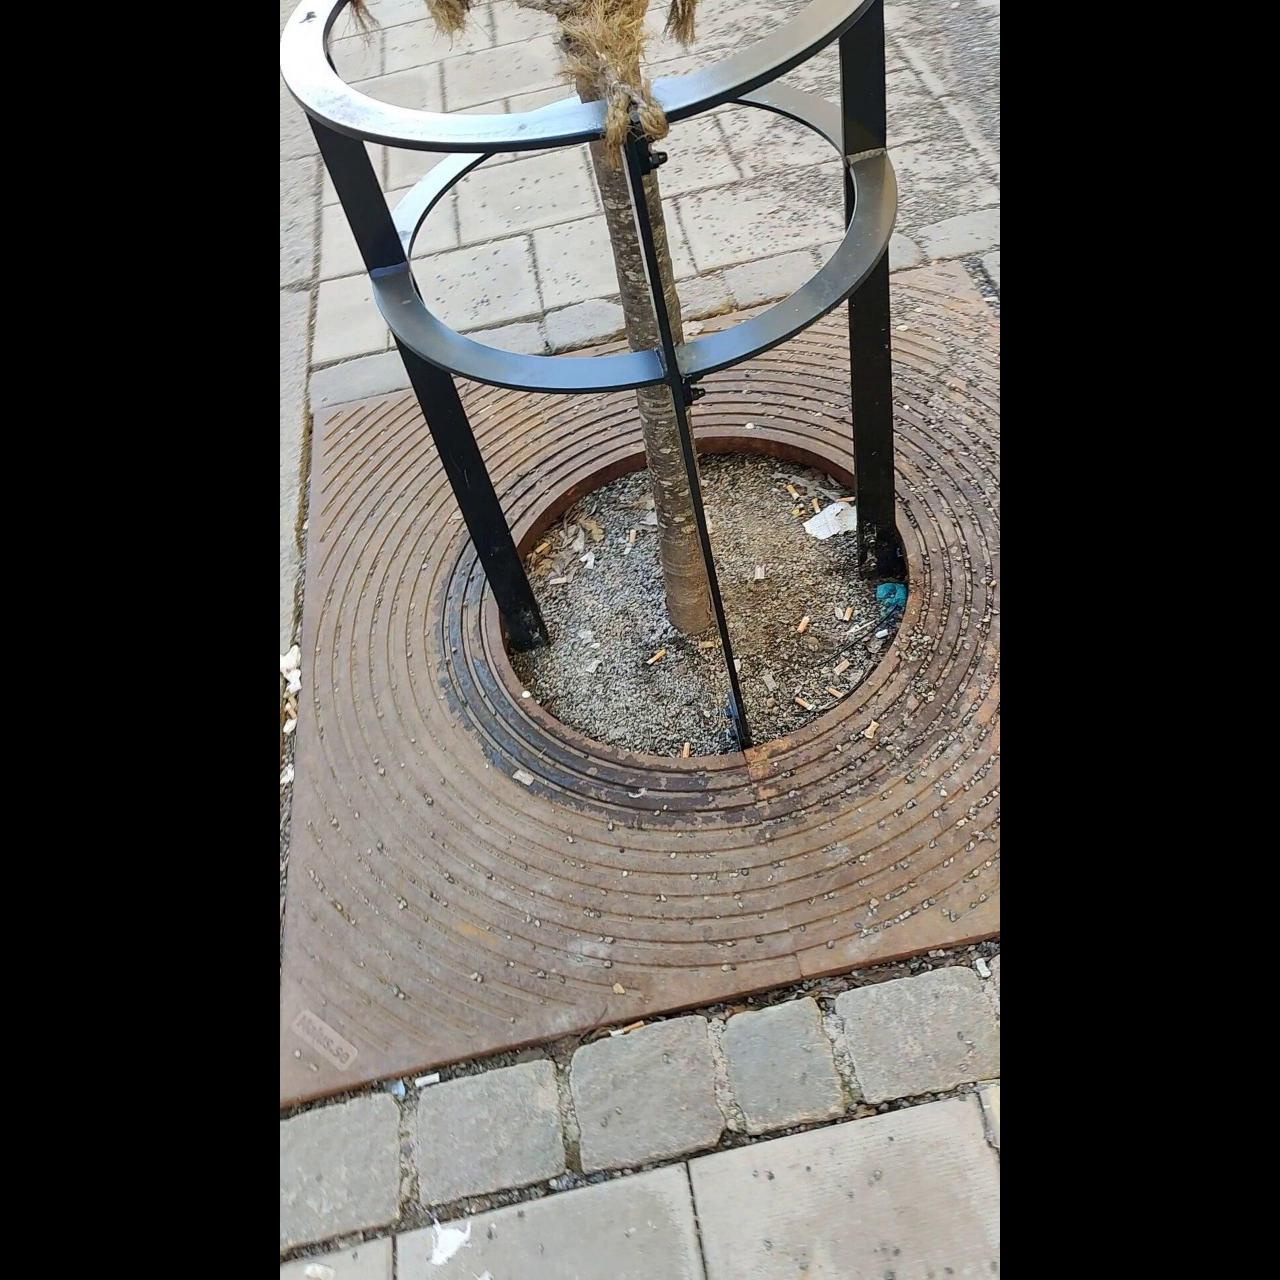cigarettes_butts: (609, 1018, 645, 1042), (645, 647, 667, 667), (795, 696, 815, 712), (794, 615, 810, 635), (787, 486, 801, 504), (809, 497, 822, 515), (682, 740, 692, 760), (822, 684, 840, 694), (843, 604, 851, 626), (534, 541, 546, 555), (286, 702, 294, 719), (291, 690, 299, 706), (630, 531, 634, 543)
others: (415, 1070, 439, 1094), (578, 550, 596, 572), (515, 767, 533, 785), (760, 674, 780, 690), (864, 721, 878, 741), (753, 566, 767, 586), (700, 638, 718, 652), (835, 660, 849, 676), (549, 576, 567, 584)
